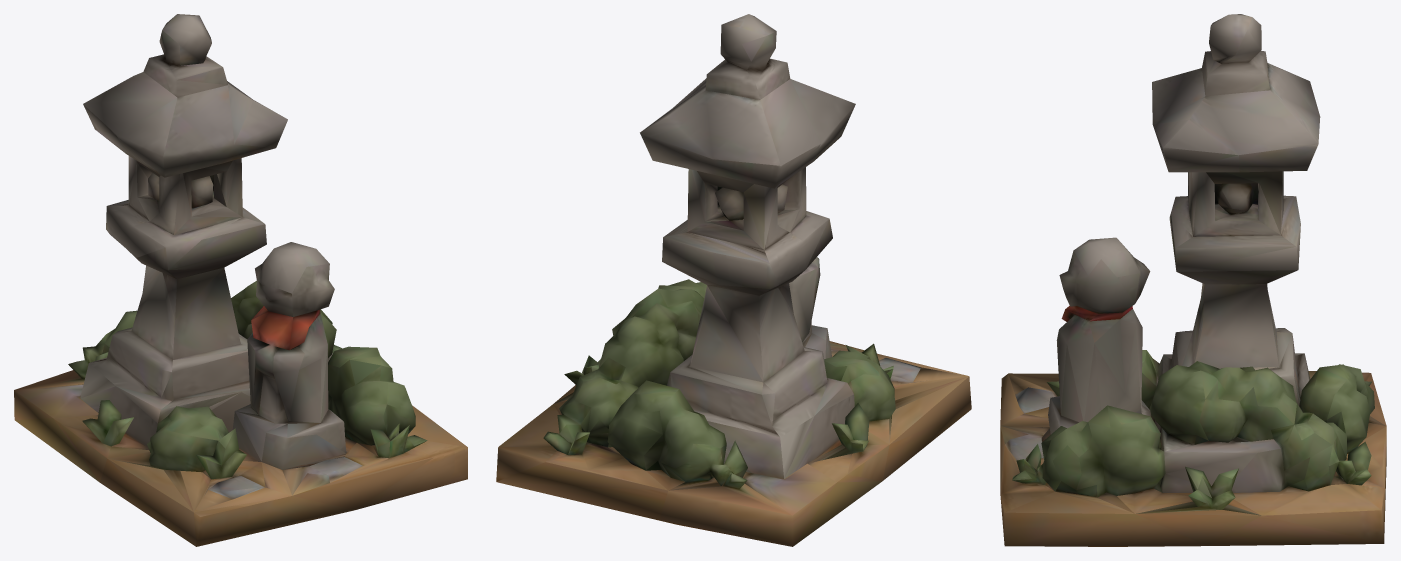
File: stone_lantern.glb
The picture shows the model from 3 angles, left to right: view 1: azimuth 30°, elevation 25°; view 2: azimuth 150°, elevation 25°; view 3: azimuth 270°, elevation 25°; orthographic projection. The views are drawn at different scales.
Parts seen in each view (by area): view 1: tripo_node_27e027bb-cf72-47f8-950e-52399f14091c; view 2: tripo_node_27e027bb-cf72-47f8-950e-52399f14091c; view 3: tripo_node_27e027bb-cf72-47f8-950e-52399f14091c.
Part boxes in pixels (bbox=[...]): tripo_node_27e027bb-cf72-47f8-950e-52399f14091c: bbox=[14, 14, 467, 546]; tripo_node_27e027bb-cf72-47f8-950e-52399f14091c: bbox=[496, 14, 971, 546]; tripo_node_27e027bb-cf72-47f8-950e-52399f14091c: bbox=[1000, 14, 1386, 546].
Size of the model in its own units: 0.6807 by 0.9803 by 0.7678.
Materials: 1 (1 with a texture image).
